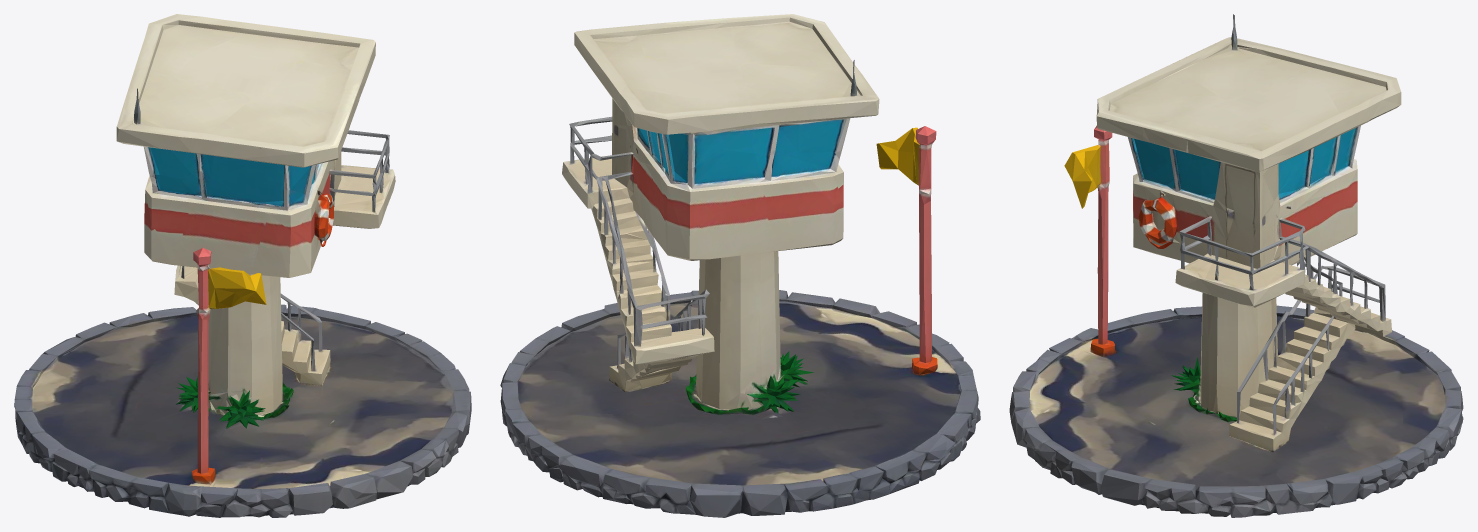
The model's file is rio-salva-vidas.glb.
3 views of the same model, side by side, from view 1: azimuth 30°, elevation 25°; view 2: azimuth 150°, elevation 25°; view 3: azimuth 270°, elevation 25° (orthographic). The views are drawn at different scales.
Visible parts, largest first — view 1: tripo_node_2bb5afc2-7c3b-44f5-ab09-48b81ff54687; view 2: tripo_node_2bb5afc2-7c3b-44f5-ab09-48b81ff54687; view 3: tripo_node_2bb5afc2-7c3b-44f5-ab09-48b81ff54687.
Part boxes in pixels (x1,y1,x2,y2): tripo_node_2bb5afc2-7c3b-44f5-ab09-48b81ff54687: (14, 14, 471, 517); tripo_node_2bb5afc2-7c3b-44f5-ab09-48b81ff54687: (500, 14, 980, 517); tripo_node_2bb5afc2-7c3b-44f5-ab09-48b81ff54687: (1009, 14, 1463, 517).
Size of the model in its own units: 0.9983 by 0.8692 by 0.9966.
1 material, 1 textured.
